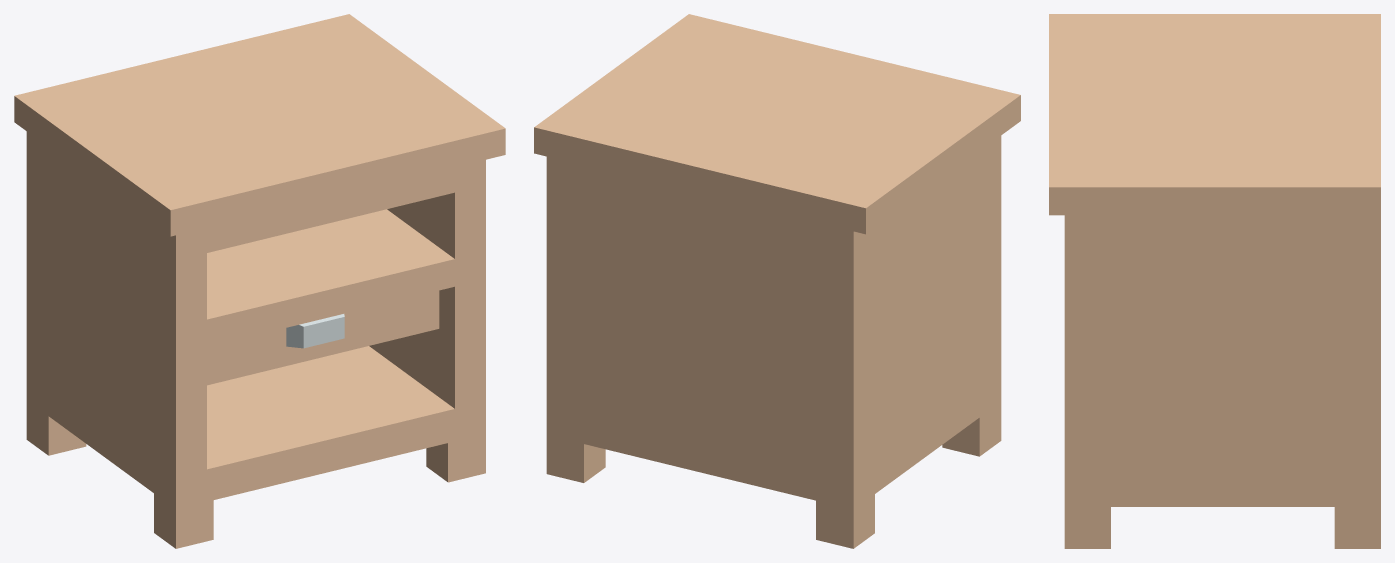
The model's file is cabinetBedDrawer.glb.
3 views of the same model, side by side, from view 1: azimuth 30°, elevation 25°; view 2: azimuth 150°, elevation 25°; view 3: azimuth 270°, elevation 25° (orthographic). The views are drawn at different scales.
Visible parts, largest first — view 1: cabinetBedDrawer, cabinetBedDrawer.002; view 2: cabinetBedDrawer; view 3: cabinetBedDrawer.
Part boxes in pixels (x1,y1,x2,y2): cabinetBedDrawer: [14, 14, 505, 548]; cabinetBedDrawer.002: [207, 290, 439, 385]; cabinetBedDrawer: [534, 14, 1020, 548]; cabinetBedDrawer: [1049, 14, 1380, 548].
Bounding box in the file's own units: 0.798 × 0.7896 × 0.645.
